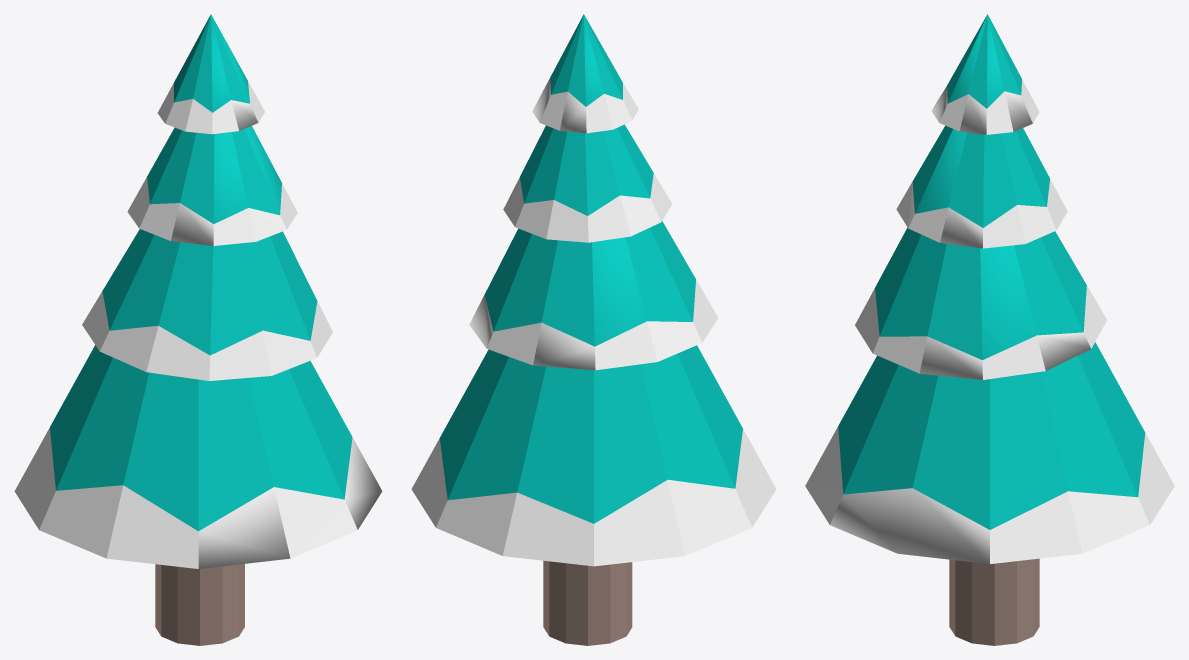
Rendered from tree.fbx.
3 renders of one model, left to right at view 1: azimuth 30°, elevation 25°; view 2: azimuth 150°, elevation 25°; view 3: azimuth 270°, elevation 25°, orthographic.
Visible parts, largest first — view 1: mesh302406045, mesh558928348, mesh1852343849, mesh116569604, mesh1839540034; view 2: mesh302406045, mesh558928348, mesh1852343849, mesh116569604, mesh1839540034; view 3: mesh302406045, mesh558928348, mesh1852343849, mesh1839540034, mesh116569604.
Part boxes in pixels (x1=…): mesh302406045: x1=14, y1=345, x2=382, y2=568; mesh558928348: x1=82, y1=229, x2=332, y2=380; mesh1852343849: x1=127, y1=126, x2=297, y2=245; mesh116569604: x1=157, y1=14, x2=264, y2=134; mesh1839540034: x1=155, y1=564, x2=244, y2=645; mesh302406045: x1=411, y1=345, x2=776, y2=566; mesh558928348: x1=469, y1=221, x2=718, y2=370; mesh1852343849: x1=503, y1=124, x2=671, y2=242; mesh116569604: x1=532, y1=14, x2=638, y2=133; mesh1839540034: x1=543, y1=560, x2=632, y2=645; mesh302406045: x1=805, y1=342, x2=1174, y2=563; mesh558928348: x1=855, y1=227, x2=1106, y2=379; mesh1852343849: x1=896, y1=125, x2=1067, y2=248; mesh1839540034: x1=949, y1=558, x2=1039, y2=645; mesh116569604: x1=931, y1=14, x2=1039, y2=134.
Size of the model in its own units: 41 by 75.44 by 41.
